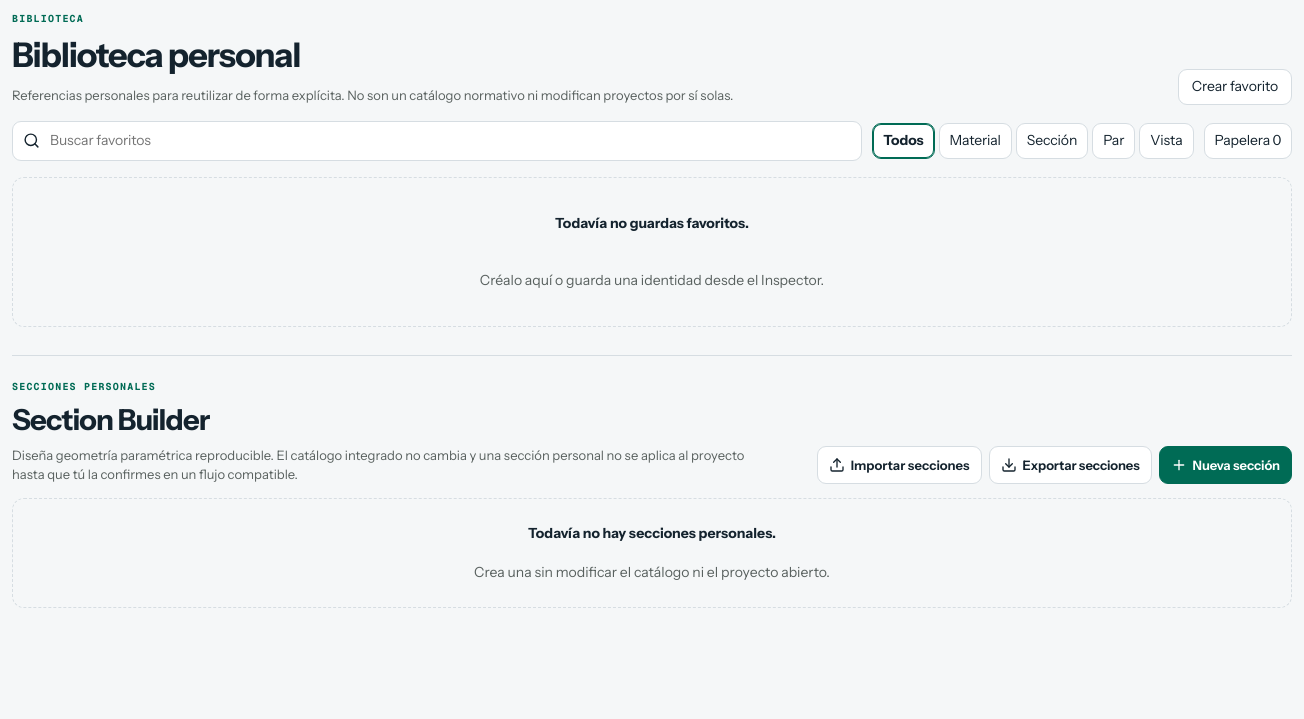
Test: PersonalLibraryView › keeps the empty state and reports storage failure without pretending it saved
Click the button "Crear favorito": (1235, 87) [1178,69,1292,105]
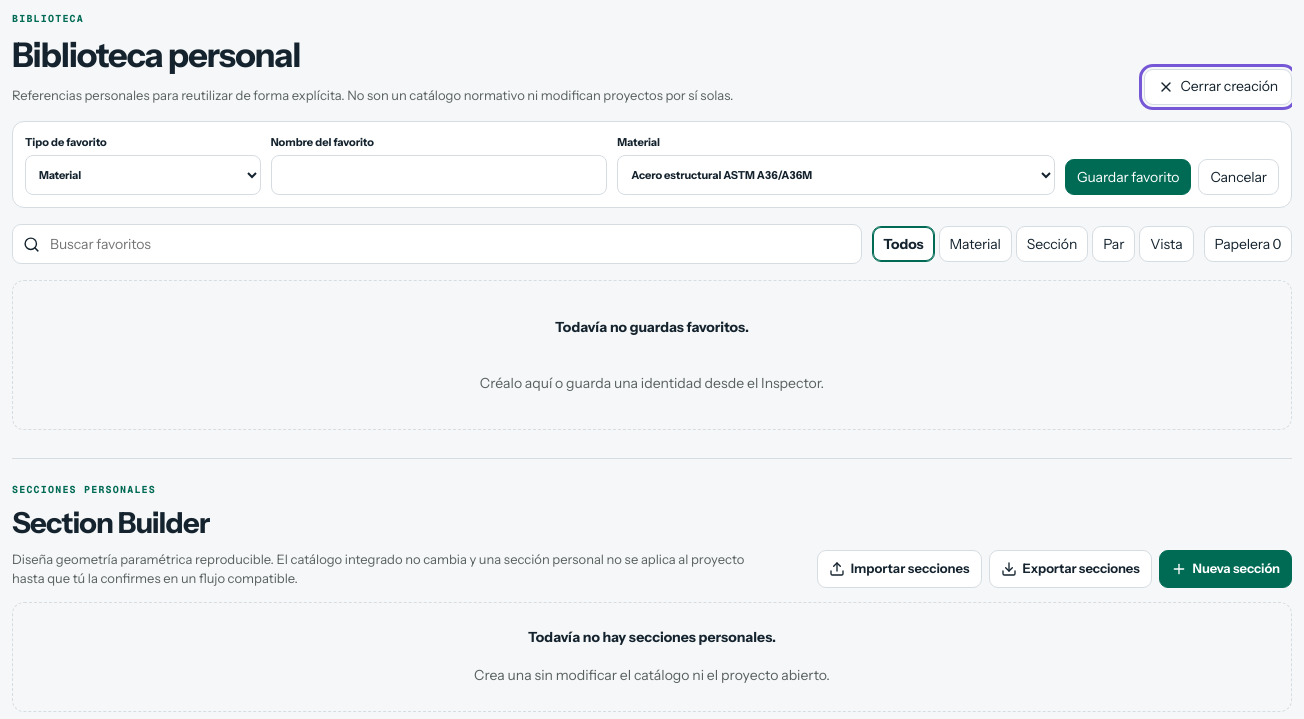
In the field labelled "Nombre del favorito": (439, 175) [271,155,607,195], type "Acero"
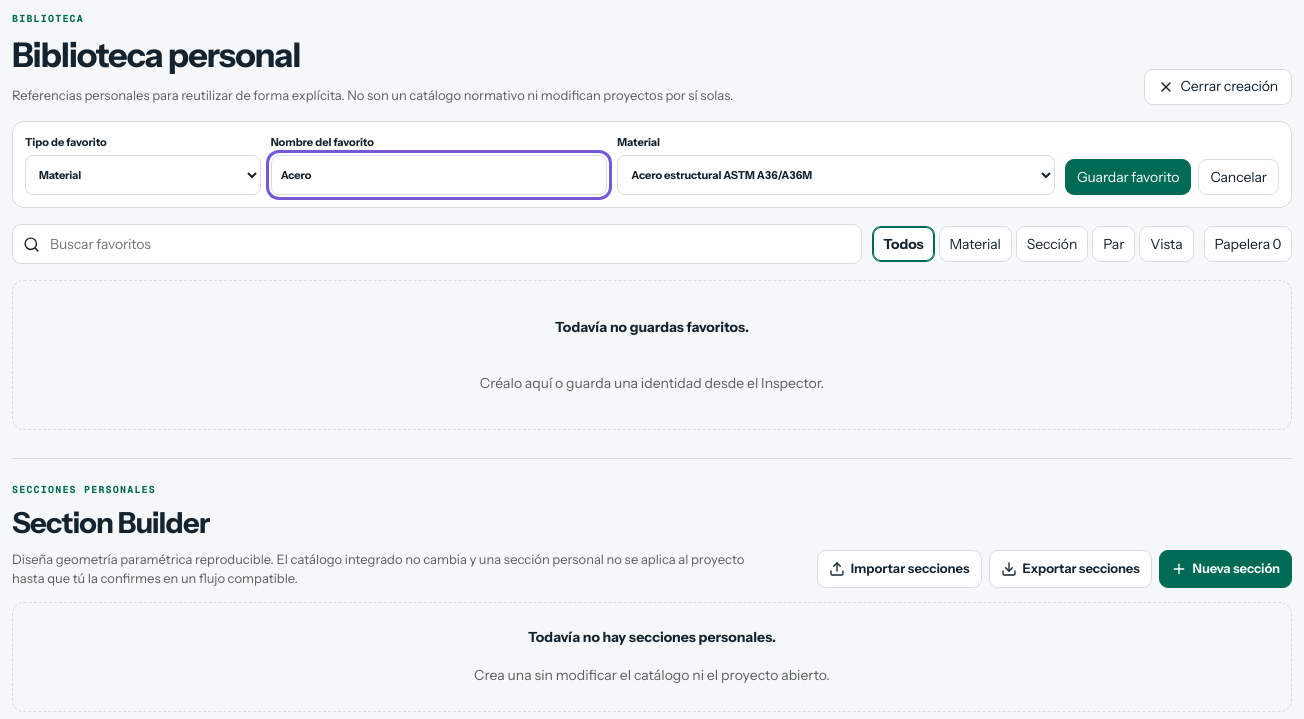
Select "Acero estructural ASTM A36/A36M" in the dropdown labelled "Material": (836, 175) [617,155,1055,195]
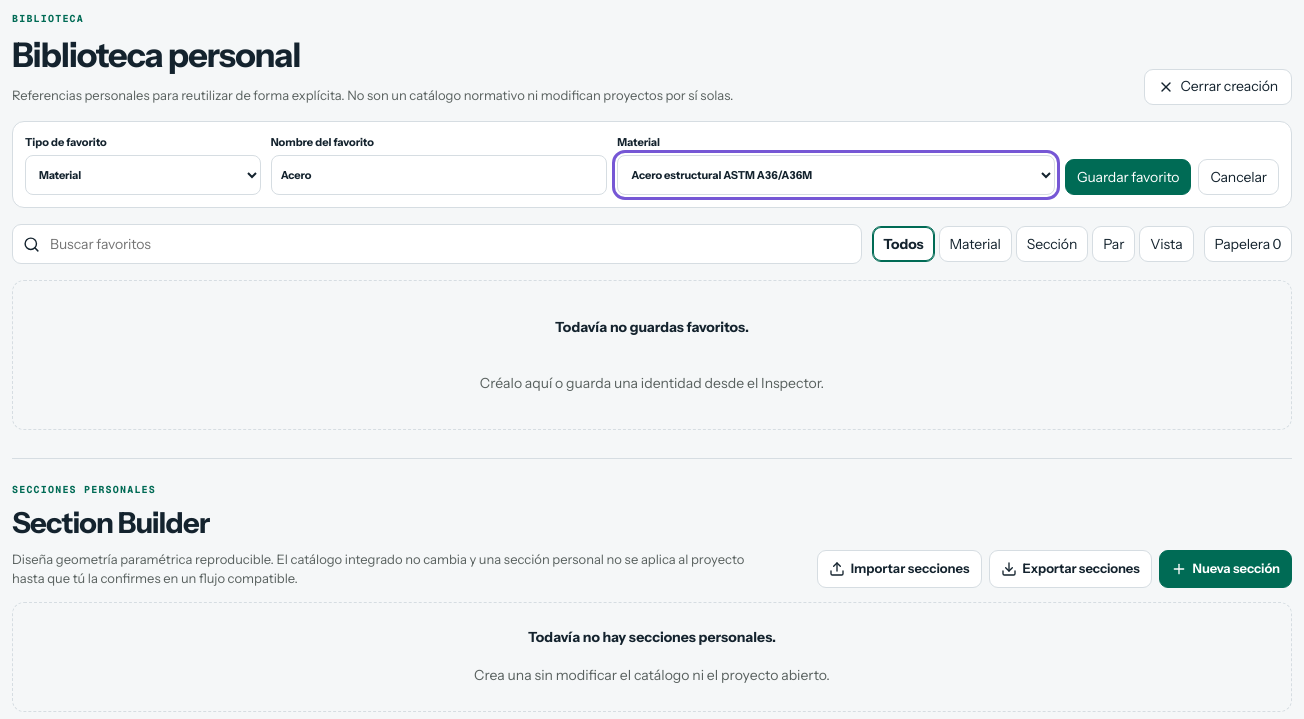
Click the button "Guardar favorito": (1128, 177) [1065,159,1192,195]
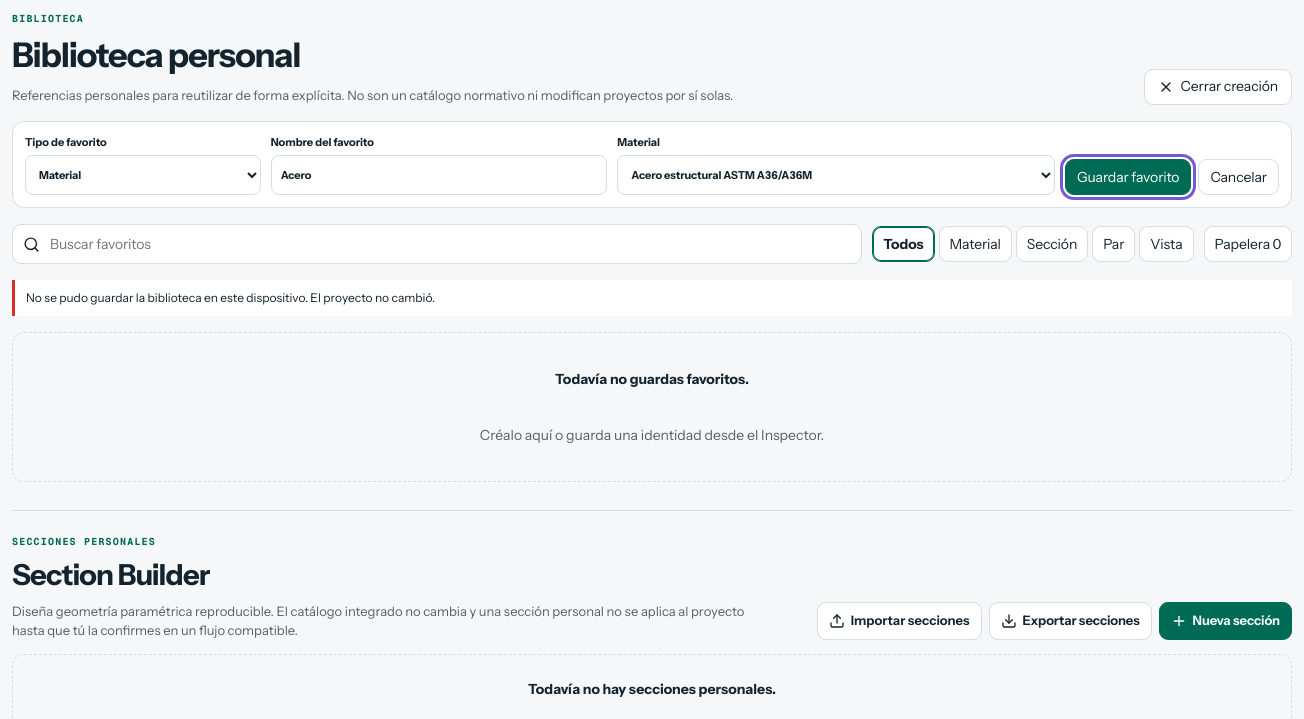
Check: the text "Todavía no guardas favoritos." is shown, box [555,369,749,390]
Check: the message "No se pudo guardar la biblioteca en este dispositivo. El proyecto no cambió." is shown, box [12,280,1292,316]
